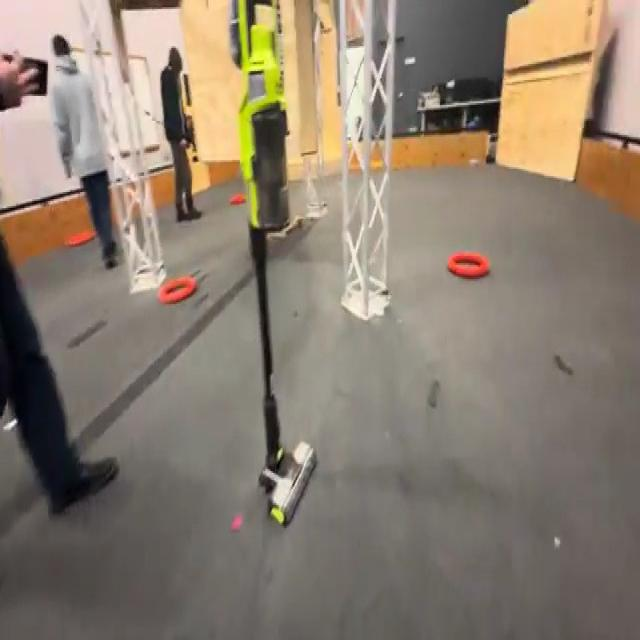note: (445, 251, 490, 280), (156, 275, 196, 305), (66, 227, 96, 250), (230, 192, 245, 203)
